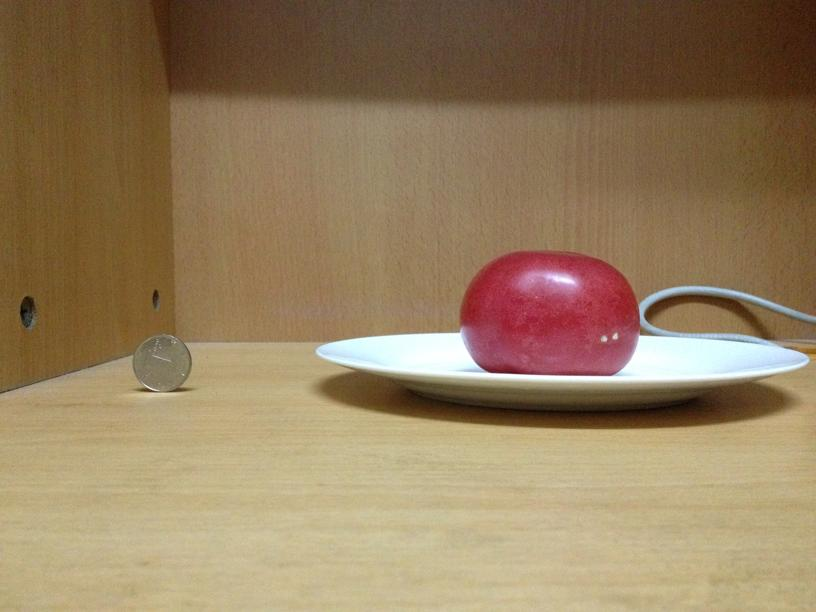coin: (134, 334, 193, 390)
tomato: (454, 252, 640, 376)
